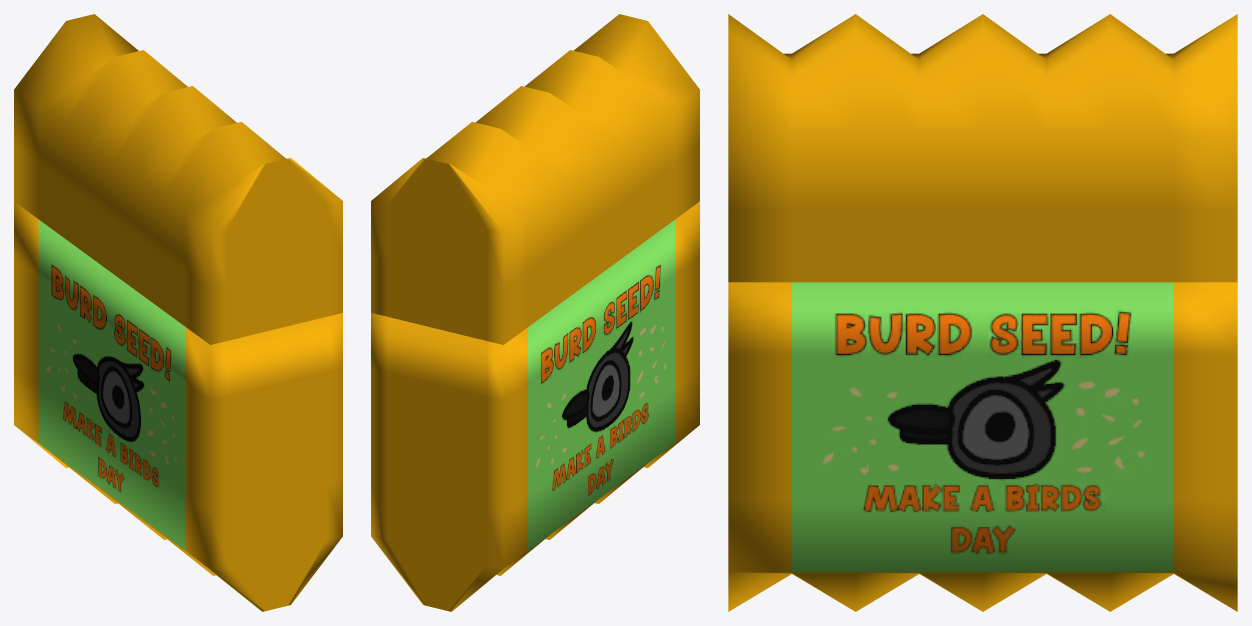
The model's file is item-burd-seed.glb.
3 views of the same model, side by side, from view 1: azimuth 30°, elevation 25°; view 2: azimuth 150°, elevation 25°; view 3: azimuth 270°, elevation 25° (orthographic). The views are drawn at different scales.
Bounding box in the file's own units: 0.5316 × 1.71 × 1.36.
Materials: 3 (2 with a texture image).
